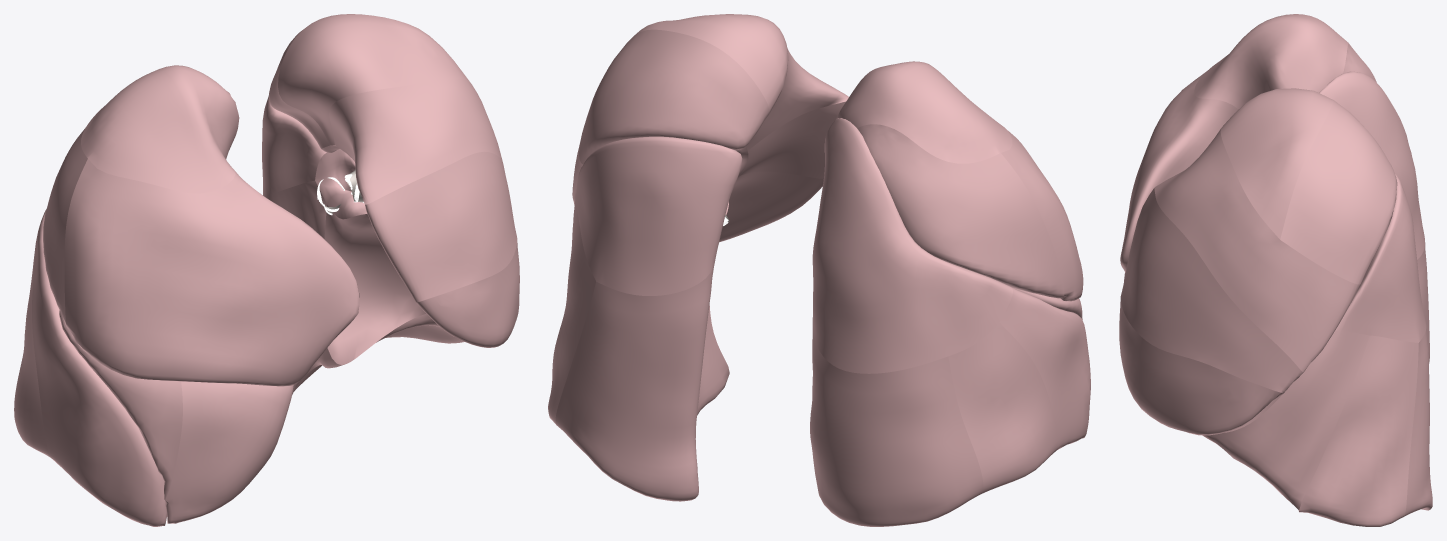
Rendered from 3d-vh-f-lung.glb.
The picture shows the model from 3 angles, left to right: view 1: azimuth 30°, elevation 25°; view 2: azimuth 150°, elevation 25°; view 3: azimuth 270°, elevation 25°; orthographic projection. The views are drawn at different scales.
Visible parts, largest first — view 1: VH_F_right_anterior_bronchopulmonary_segm, VH_F_right_anterior_basal_bronchopulmonary_segment, VH_F_lingula_superior_bronchopulmonary_segment, VH_F_right_apical_bronchopulmonary_segment, VH_F_left_anterior_bronchopulmonary_segment, VH_F_left_apical_bronchopulmonary_segment, VH_F_right_medial_bronchopulmonary_segment, VH_F_left_medial_basal_bronchopulmonary_segment, VH_F_lingula_inferior_bronchopulmonary_segment, VH_F_right_lateral_bronchopulmonary_segmennt, VH_F_left_superior_bronchopulmonary_segment, VH_F_right_posterior_bronchopulmonary_segment (+6 smaller); view 2: VH_F_right_superior_bronchopulmonary_segment, VH_F_left_posterior_basal_bronchopulmonary_segment, VH_F_right_posterior_basal_bronchopulmonary_segment, VH_F_left_superior_bronchopulmonary_segment, VH_F_right_posterior_bronchopulmonary_segment, VH_F_left_posterior_bronchopulmonary_segment, VH_F_right_lateral_basal_bronchopulmonary_segment, VH_F_right_apical_bronchopulmonary_segment, VH_F_right_anterior_basal_bronchopulmonary_segment, VH_F_left_apical_bronchopulmonary_segment, VH_F_lingula_inferior_bronchopulmonary_segment, VH_F_lingula_superior_bronchopulmonary_segment (+3 smaller); view 3: VH_F_left_anterior_bronchopulmonary_segment, VH_F_lingula_superior_bronchopulmonary_segment, VH_F_left_lateral_basal_bronchopulmonary_segment, VH_F_left_posterior_bronchopulmonary_segment, VH_F_left_anterior_basal_bronchopulmonary_segment, VH_F_lingula_inferior_bronchopulmonary_segment, VH_F_left_apical_bronchopulmonary_segment, VH_F_right_apical_bronchopulmonary_segment, VH_F_left_superior_bronchopulmonary_segment, VH_F_right_anterior_bronchopulmonary_segm, VH_F_right_superior_bronchopulmonary_segment, VH_F_left_posterior_basal_bronchopulmonary_segment (+2 smaller).
Part boxes in pixels (box(x1,y1,x2,y2)): VH_F_right_anterior_bronchopulmonary_segm: box(64, 159, 359, 386); VH_F_right_anterior_basal_bronchopulmonary_segment: box(32, 265, 166, 526); VH_F_lingula_superior_bronchopulmonary_segment: box(365, 151, 517, 302); VH_F_right_apical_bronchopulmonary_segment: box(81, 65, 239, 193); VH_F_left_anterior_bronchopulmonary_segment: box(329, 78, 502, 204); VH_F_left_apical_bronchopulmonary_segment: box(278, 14, 470, 145); VH_F_right_medial_bronchopulmonary_segment: box(165, 381, 293, 523); VH_F_left_medial_basal_bronchopulmonary_segment: box(324, 205, 425, 364); VH_F_lingula_inferior_bronchopulmonary_segment: box(416, 242, 519, 347); VH_F_right_lateral_bronchopulmonary_segmennt: box(59, 310, 182, 499); VH_F_left_superior_bronchopulmonary_segment: box(262, 95, 326, 197); VH_F_right_posterior_bronchopulmonary_segment: box(43, 129, 87, 325); VH_F_right_superior_bronchopulmonary_segment: box(812, 118, 1012, 373); VH_F_left_posterior_basal_bronchopulmonary_segment: box(555, 265, 729, 501); VH_F_right_posterior_basal_bronchopulmonary_segment: box(810, 325, 983, 526); VH_F_left_superior_bronchopulmonary_segment: box(576, 136, 742, 295); VH_F_right_posterior_bronchopulmonary_segment: box(857, 124, 1064, 298); VH_F_left_posterior_bronchopulmonary_segment: box(579, 29, 769, 164); VH_F_right_lateral_basal_bronchopulmonary_segment: box(948, 322, 1058, 493); VH_F_right_apical_bronchopulmonary_segment: box(836, 61, 1012, 163); VH_F_right_anterior_basal_bronchopulmonary_segment: box(999, 287, 1090, 449); VH_F_left_apical_bronchopulmonary_segment: box(634, 14, 788, 113); VH_F_lingula_inferior_bronchopulmonary_segment: box(719, 171, 823, 242); VH_F_lingula_superior_bronchopulmonary_segment: box(739, 101, 845, 178); VH_F_left_anterior_bronchopulmonary_segment: box(1154, 129, 1360, 372); VH_F_lingula_superior_bronchopulmonary_segment: box(1120, 188, 1303, 393); VH_F_left_lateral_basal_bronchopulmonary_segment: box(1299, 335, 1418, 526); VH_F_left_posterior_bronchopulmonary_segment: box(1280, 100, 1397, 284); VH_F_left_anterior_basal_bronchopulmonary_segment: box(1202, 330, 1369, 510); VH_F_lingula_inferior_bronchopulmonary_segment: box(1119, 300, 1283, 435); VH_F_left_apical_bronchopulmonary_segment: box(1220, 88, 1333, 239); VH_F_right_apical_bronchopulmonary_segment: box(1194, 14, 1348, 109); VH_F_left_superior_bronchopulmonary_segment: box(1335, 173, 1426, 342); VH_F_right_anterior_bronchopulmonary_segm: box(1120, 71, 1238, 272); VH_F_right_superior_bronchopulmonary_segment: box(1319, 71, 1424, 259); VH_F_left_posterior_basal_bronchopulmonary_segment: box(1404, 329, 1432, 516).
Bounding box in the file's own units: 0.2511 × 0.223 × 0.1526.
